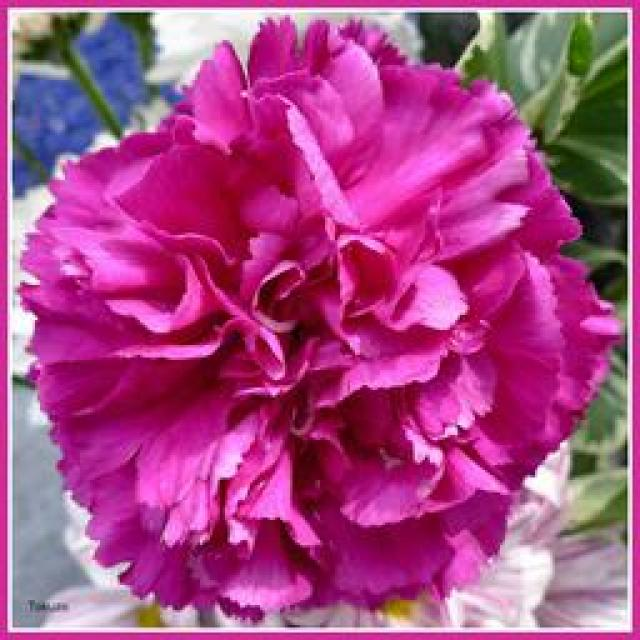carnation: (23, 20, 615, 640)
